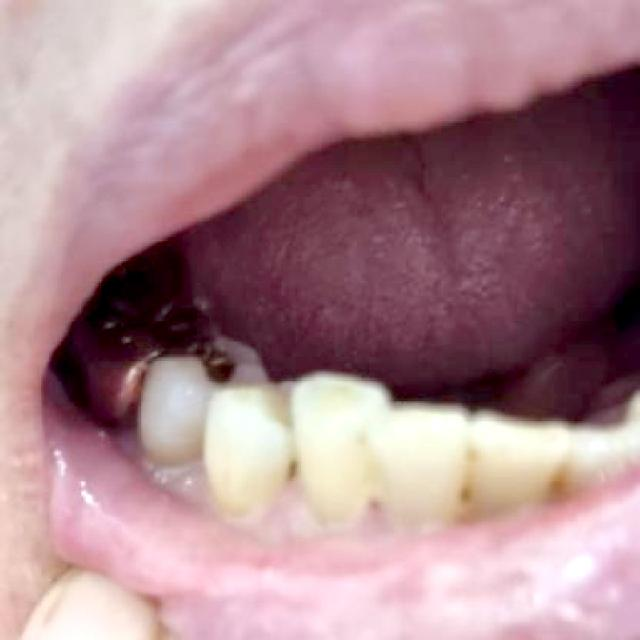Plaque: (125, 438, 205, 500)
